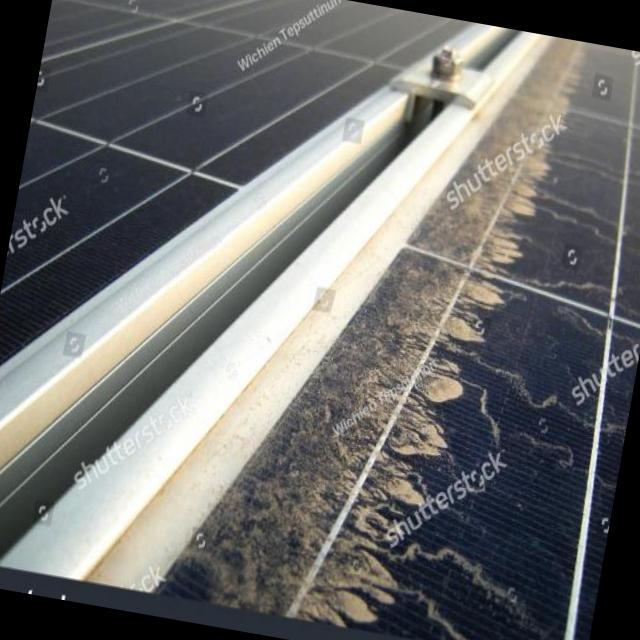faulty: (156, 42, 640, 640)
